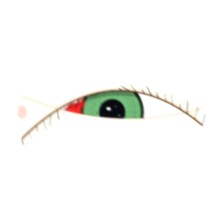hemorrhage_spot: (53, 75, 140, 144)
